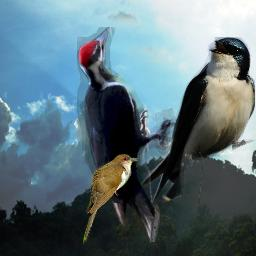Cuckoo: (83, 153, 138, 245)
Swallow: (141, 37, 255, 208)
Woodpecker: (77, 27, 177, 242)
